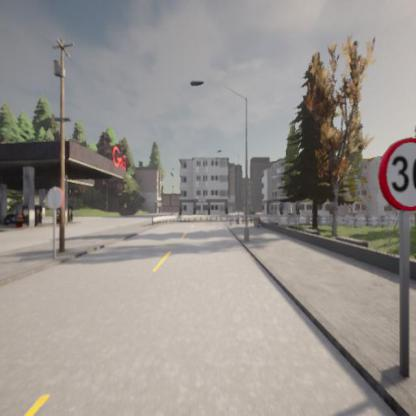traffic_sign_30: (376, 137, 416, 213)
